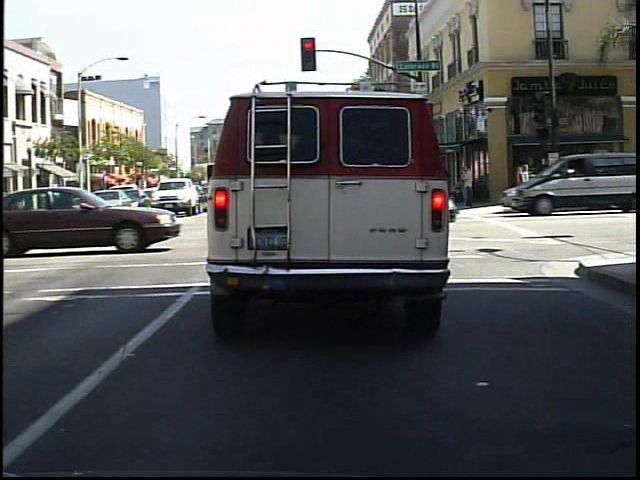person: (537, 155, 559, 209), (511, 162, 531, 207)
